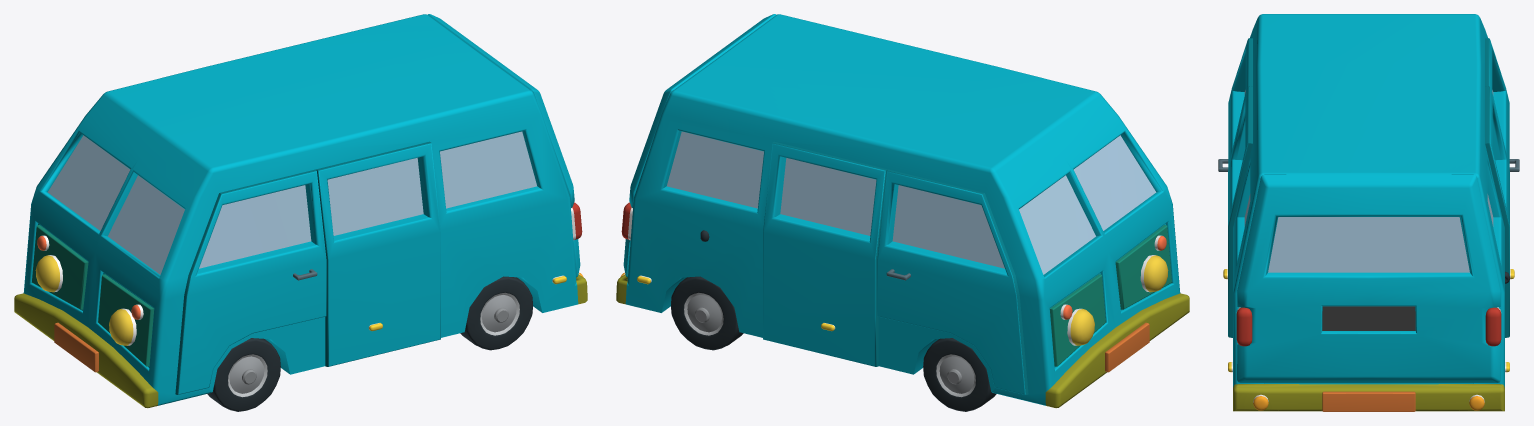
Rendered from Vancar_Blue.fbx.
3 renders of one model, left to right at view 1: azimuth 30°, elevation 25°; view 2: azimuth 150°, elevation 25°; view 3: azimuth 270°, elevation 25°, orthographic. The views are drawn at different scales.
Parts seen in each view (by area): view 1: Thanxe, Banhxe, Banhxe2, cop; view 2: Thanxe, Banhxe1, Banhxe3, cop; view 3: Thanxe, cop.
Part boxes in pixels (<box>): Thanxe: <box>14,14,587,408</box>; Banhxe: <box>207,338,280,411</box>; Banhxe2: <box>460,276,533,350</box>; cop: <box>428,14,580,277</box>; Thanxe: <box>616,14,1189,408</box>; Banhxe1: <box>923,338,996,411</box>; Banhxe3: <box>670,276,743,350</box>; cop: <box>623,14,775,277</box>; Thanxe: <box>1218,14,1519,411</box>; cop: <box>1237,174,1500,383</box>.
Size of the model in its own units: 1354 by 686 by 757.
